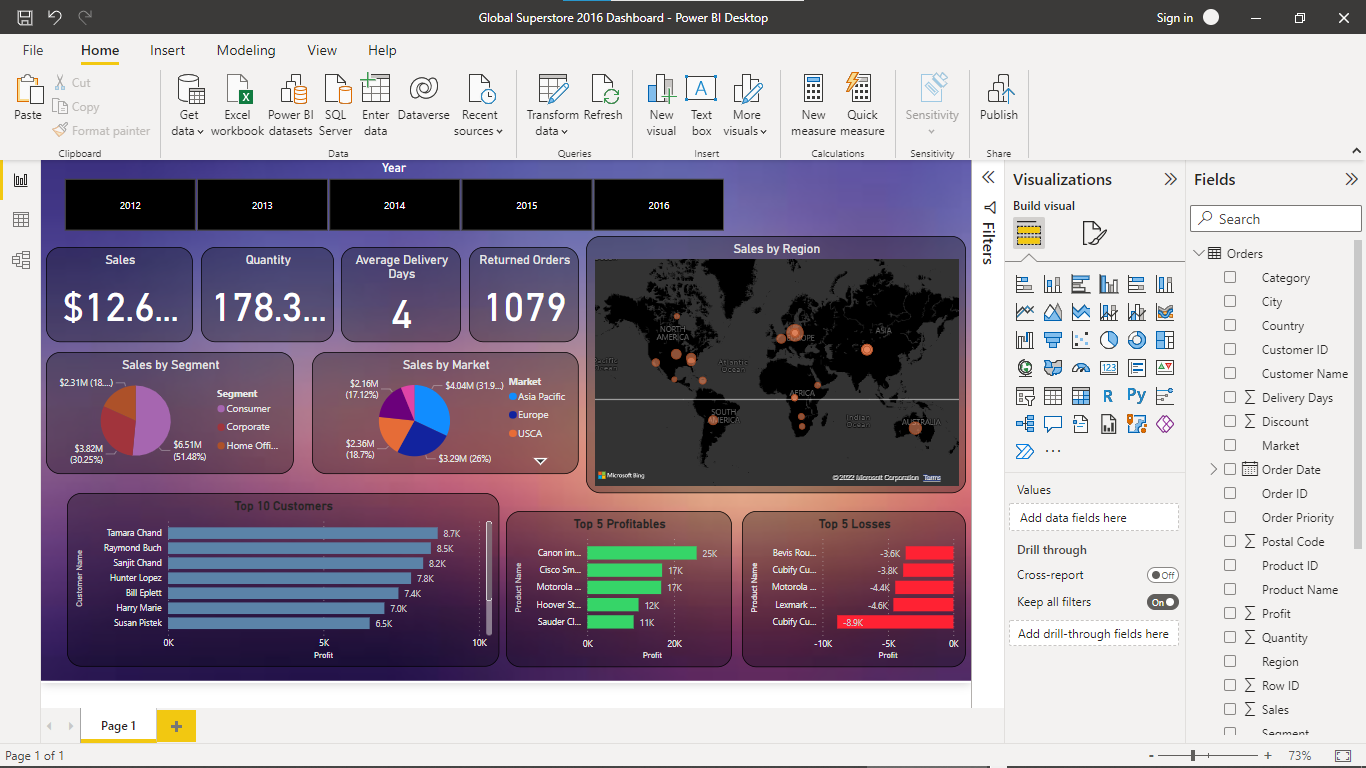

Layout of this report page (visuals, bound fields, positions):
{"tool":"powerbi","page":{"name":"Page 1","canvas":[1280,720],"ordinal":0},"visuals":[{"type":"slicer","title":"Year","fields":{"Values":["Orders.Year of shipment"]},"box":[6.7,0,957.5,104.1],"z":3},{"type":"card","title":"Returned Orders","fields":{"Values":["Returns.Return Order"]},"box":[589.1,119.7,151.4,130.8],"z":4},{"type":"map","fields":{"Size":["Orders.Sales"],"Category":["Orders.Region"]},"box":[750.1,104.6,523,353.7],"z":5},{"type":"barChart","title":"Top 5 Profitables","fields":{"Y":["Orders.Profit"],"Category":["Orders.Product Name"]},"box":[640,483.1,311.1,214.7],"z":6},{"type":"barChart","title":"Top 5 Losses","fields":{"Y":["Orders.Profit"],"Category":["Orders.Product Name"]},"box":[964.8,483.1,308.3,214.7],"z":7},{"type":"card","title":"Average Delivery Days","fields":{"Values":["Orders.Delivery Days"]},"box":[412.9,119.7,165.2,130.8],"z":8},{"type":"card","title":"Quantity","fields":{"Values":["Orders.Quantity"]},"box":[220.2,119.7,183.1,130.8],"z":9},{"type":"card","title":"Sales","fields":{"Values":["Orders.Sales"]},"box":[6.9,119.7,202.3,130.8],"z":10},{"type":"pieChart","fields":{"Category":["Orders.Segment"],"Y":["Orders.Sales"]},"box":[6.9,264.3,341.3,167.9],"z":11},{"type":"pieChart","fields":{"Y":["Orders.Sales"],"Category":["Orders.Market"]},"box":[373,264.3,367.5,167.9],"z":12},{"type":"barChart","title":"Top 10 Customers","fields":{"Y":["Orders.Profit"],"Category":["Orders.Customer Name"]},"box":[35.8,458.3,594.6,239.5],"z":13}]}

Visuals, with their boxes on the page's 1280x720 design canvas (x1, y1, x2, y2). These are canvas units, not pixel positions in the 1366x768 screenshot, which may show the page scaled, cropped or inside an application window:
"Year" slicer: [left=7, top=0, right=964, bottom=104]
"Returned Orders" card: [left=589, top=120, right=740, bottom=250]
map - Orders.Sales x Orders.Region: [left=750, top=105, right=1273, bottom=458]
"Top 5 Profitables" barChart: [left=640, top=483, right=951, bottom=698]
"Top 5 Losses" barChart: [left=965, top=483, right=1273, bottom=698]
"Average Delivery Days" card: [left=413, top=120, right=578, bottom=250]
"Quantity" card: [left=220, top=120, right=403, bottom=250]
"Sales" card: [left=7, top=120, right=209, bottom=250]
pieChart - Orders.Segment x Orders.Sales: [left=7, top=264, right=348, bottom=432]
pieChart - Orders.Sales x Orders.Market: [left=373, top=264, right=740, bottom=432]
"Top 10 Customers" barChart: [left=36, top=458, right=630, bottom=698]
